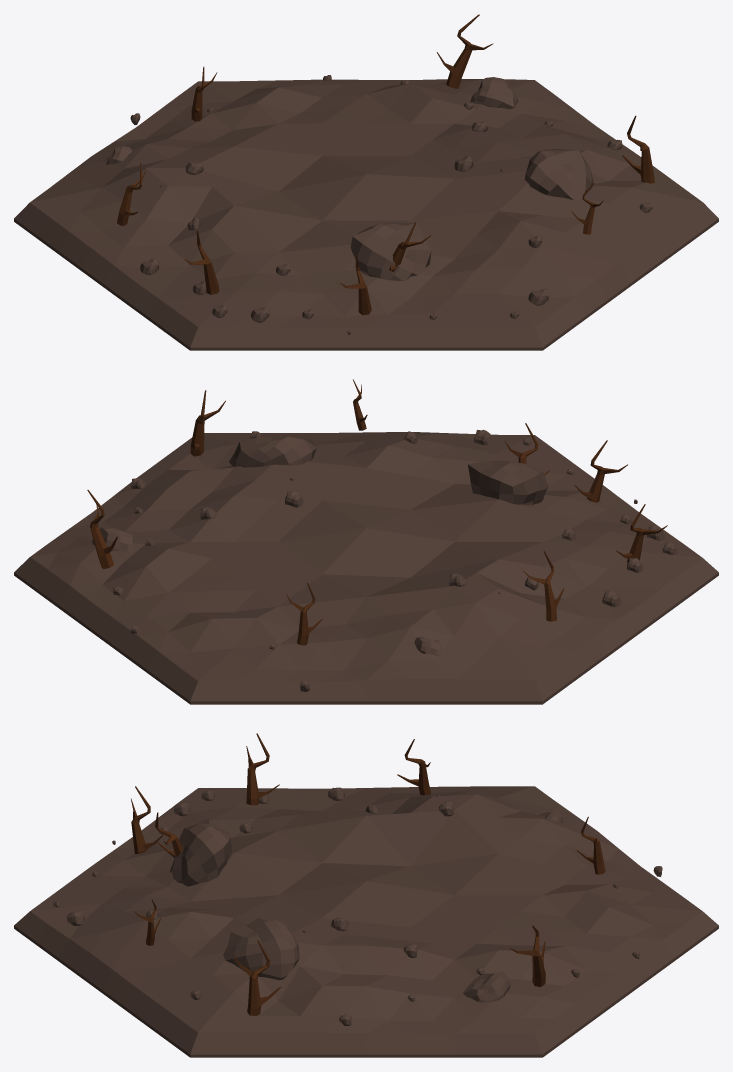
Rendered from scorched.glb.
3 renders of one model, top to bottom at view 1: azimuth 30°, elevation 25°; view 2: azimuth 150°, elevation 25°; view 3: azimuth 270°, elevation 25°, orthographic.
Visible parts, largest first — view 1: land, big_details; view 2: land, big_details; view 3: land, big_details.
Part boxes in pixels (left/top/right/bottom): land: left=14, top=75, right=718, bottom=350; big_details: left=117, top=14, right=654, bottom=315; land: left=14, top=429, right=718, bottom=704; big_details: left=87, top=379, right=667, bottom=645; land: left=14, top=786, right=718, bottom=1057; big_details: left=131, top=733, right=605, bottom=1015.
Size of the model in its own units: 1.73 by 0.3099 by 2.
